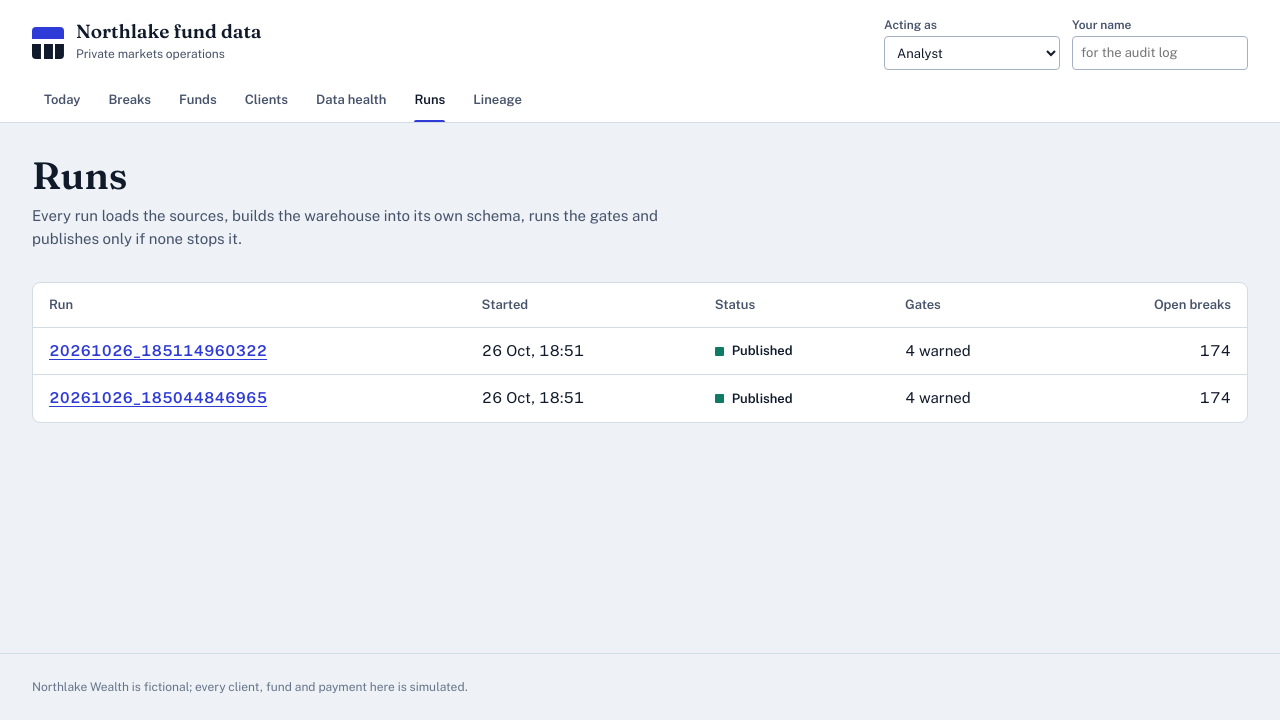
Scenario: runs › lists runs and opens one with its gates
Click the link "20261026_185114960322". click: (158, 350)
box: [49,342,267,358]
(page scrolled)
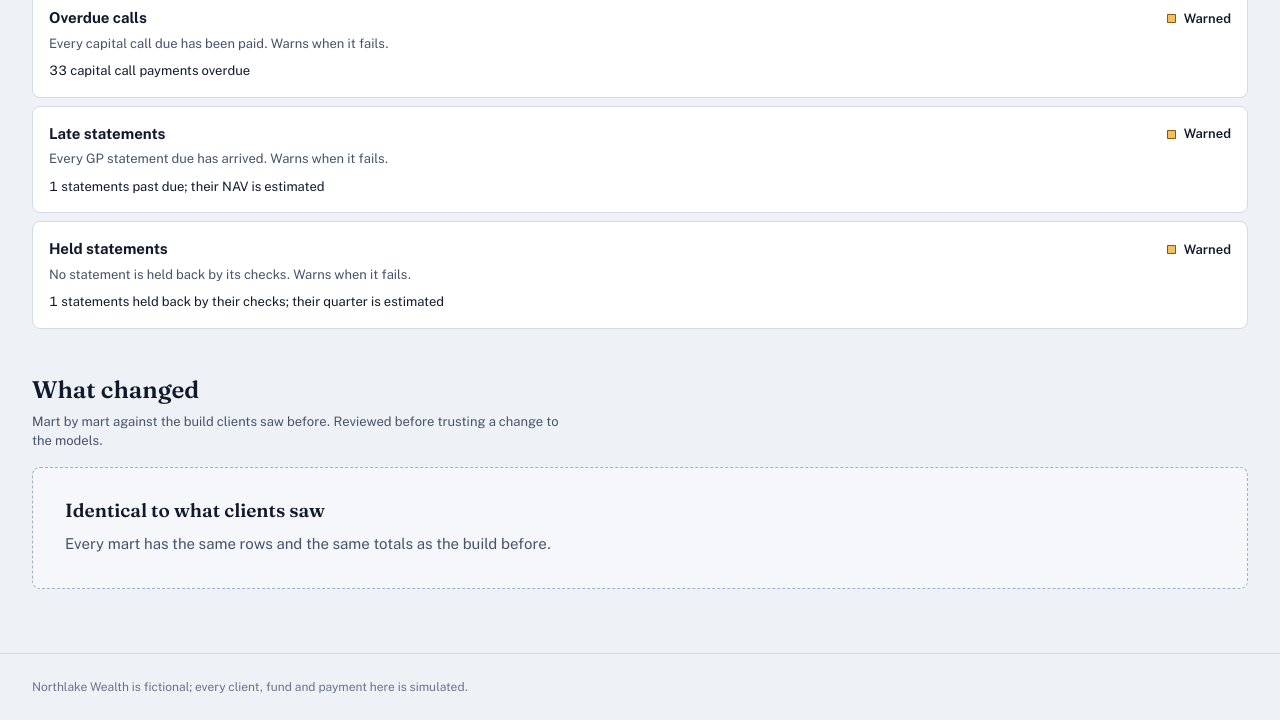
Result: the text "Warned" is shown 4 times
Result: the heading "Identical to what clients saw" is shown at [65,500,325,521]
